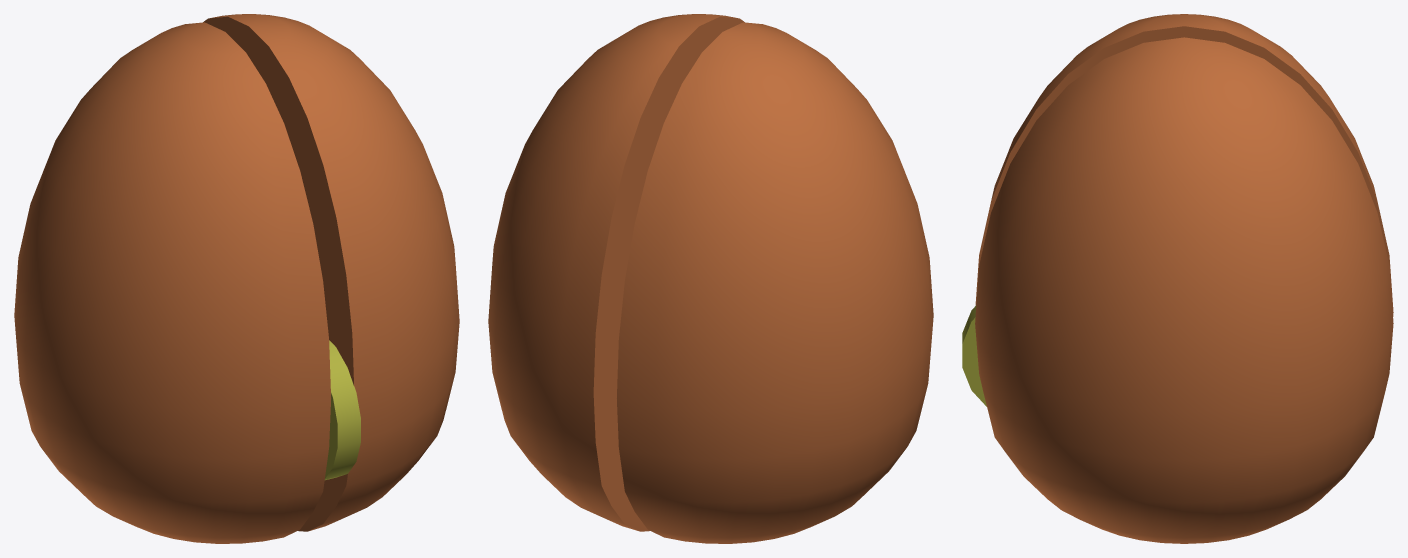
The model's file is Egg.FBX.
3 renders of one model, left to right at view 1: azimuth 30°, elevation 25°; view 2: azimuth 150°, elevation 25°; view 3: azimuth 270°, elevation 25°, orthographic.
Parts seen in each view (by area): view 1: Sphere002, Sphere001, Cylinder001, Cylinder002; view 2: Sphere002, Sphere001; view 3: Sphere001, Sphere002, Cylinder001.
Part boxes in pixels (bbox=[...]): Sphere002: bbox=[14, 22, 330, 543]; Sphere001: bbox=[203, 14, 459, 531]; Cylinder001: bbox=[326, 340, 360, 479]; Cylinder002: bbox=[324, 363, 350, 479]; Sphere002: bbox=[617, 22, 933, 543]; Sphere001: bbox=[488, 14, 744, 531]; Sphere001: bbox=[975, 37, 1393, 543]; Sphere002: bbox=[975, 14, 1393, 316]; Cylinder001: bbox=[962, 312, 986, 406].
Size of the model in its own units: 58.73 by 68.77 by 56.89.
